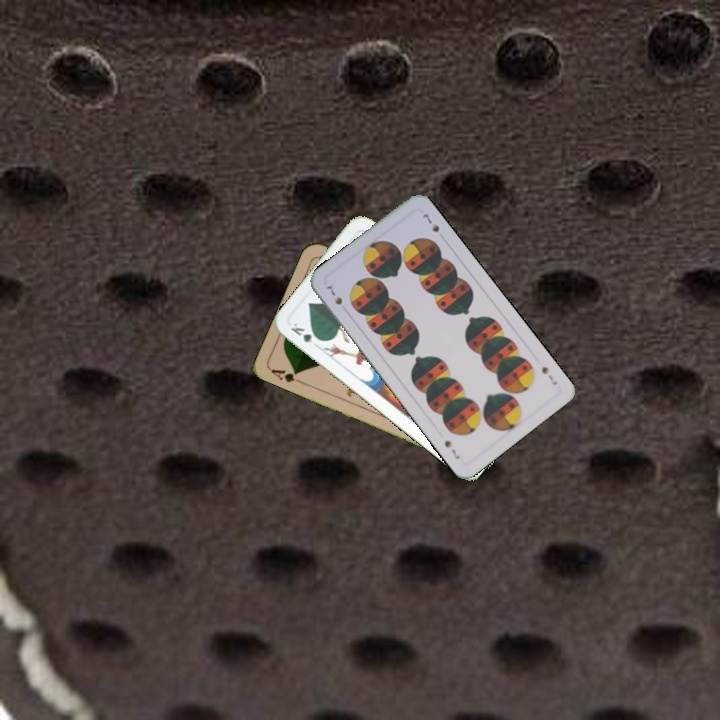GA: (267, 365, 306, 386)
GK: (286, 319, 324, 350)
S7: (322, 281, 345, 307), (537, 362, 560, 388)
